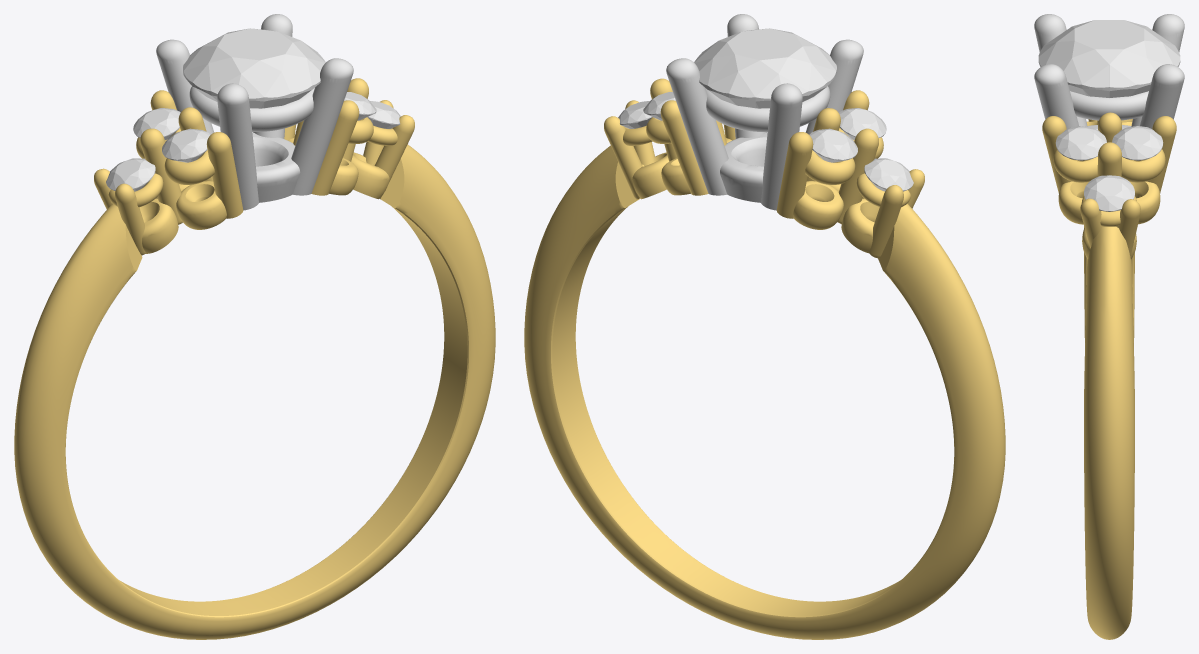
File: Barbara_v2_blender.glb
3 renders of one model, left to right at view 1: azimuth 30°, elevation 25°; view 2: azimuth 150°, elevation 25°; view 3: azimuth 270°, elevation 25°, orthographic.
Visible parts, largest first — view 1: v2 YG for 3d model, v2 PT for 3d model, v2 dia for 3d model.005, v2 dia for 3d model.006, v2 dia for 3d model.001, v2 dia for 3d model.004; view 2: v2 YG for 3d model, v2 PT for 3d model, v2 dia for 3d model.005, v2 dia for 3d model.004, v2 dia for 3d model.001, v2 dia for 3d model.006; view 3: v2 YG for 3d model, v2 dia for 3d model.005, v2 PT for 3d model, v2 dia for 3d model, v2 dia for 3d model.003, v2 dia for 3d model.002.
Boxes of the visible parts, x1,y1,x2,y2 form: v2 YG for 3d model: [14, 78, 495, 639]; v2 PT for 3d model: [156, 14, 353, 210]; v2 dia for 3d model.005: [183, 28, 325, 108]; v2 dia for 3d model.006: [162, 128, 210, 162]; v2 dia for 3d model.001: [106, 158, 155, 191]; v2 dia for 3d model.004: [133, 108, 180, 140]; v2 YG for 3d model: [524, 78, 1005, 639]; v2 PT for 3d model: [666, 14, 863, 210]; v2 dia for 3d model.005: [694, 28, 836, 108]; v2 dia for 3d model.004: [809, 128, 857, 162]; v2 dia for 3d model.001: [864, 158, 913, 191]; v2 dia for 3d model.006: [839, 108, 886, 139]; v2 YG for 3d model: [1042, 112, 1176, 639]; v2 dia for 3d model.005: [1038, 20, 1180, 97]; v2 PT for 3d model: [1034, 14, 1184, 129]; v2 dia for 3d model: [1084, 175, 1134, 211]; v2 dia for 3d model.003: [1055, 126, 1106, 160]; v2 dia for 3d model.002: [1112, 126, 1163, 160].
Size of the model in its own units: 19.1 by 22.5 by 5.3.
